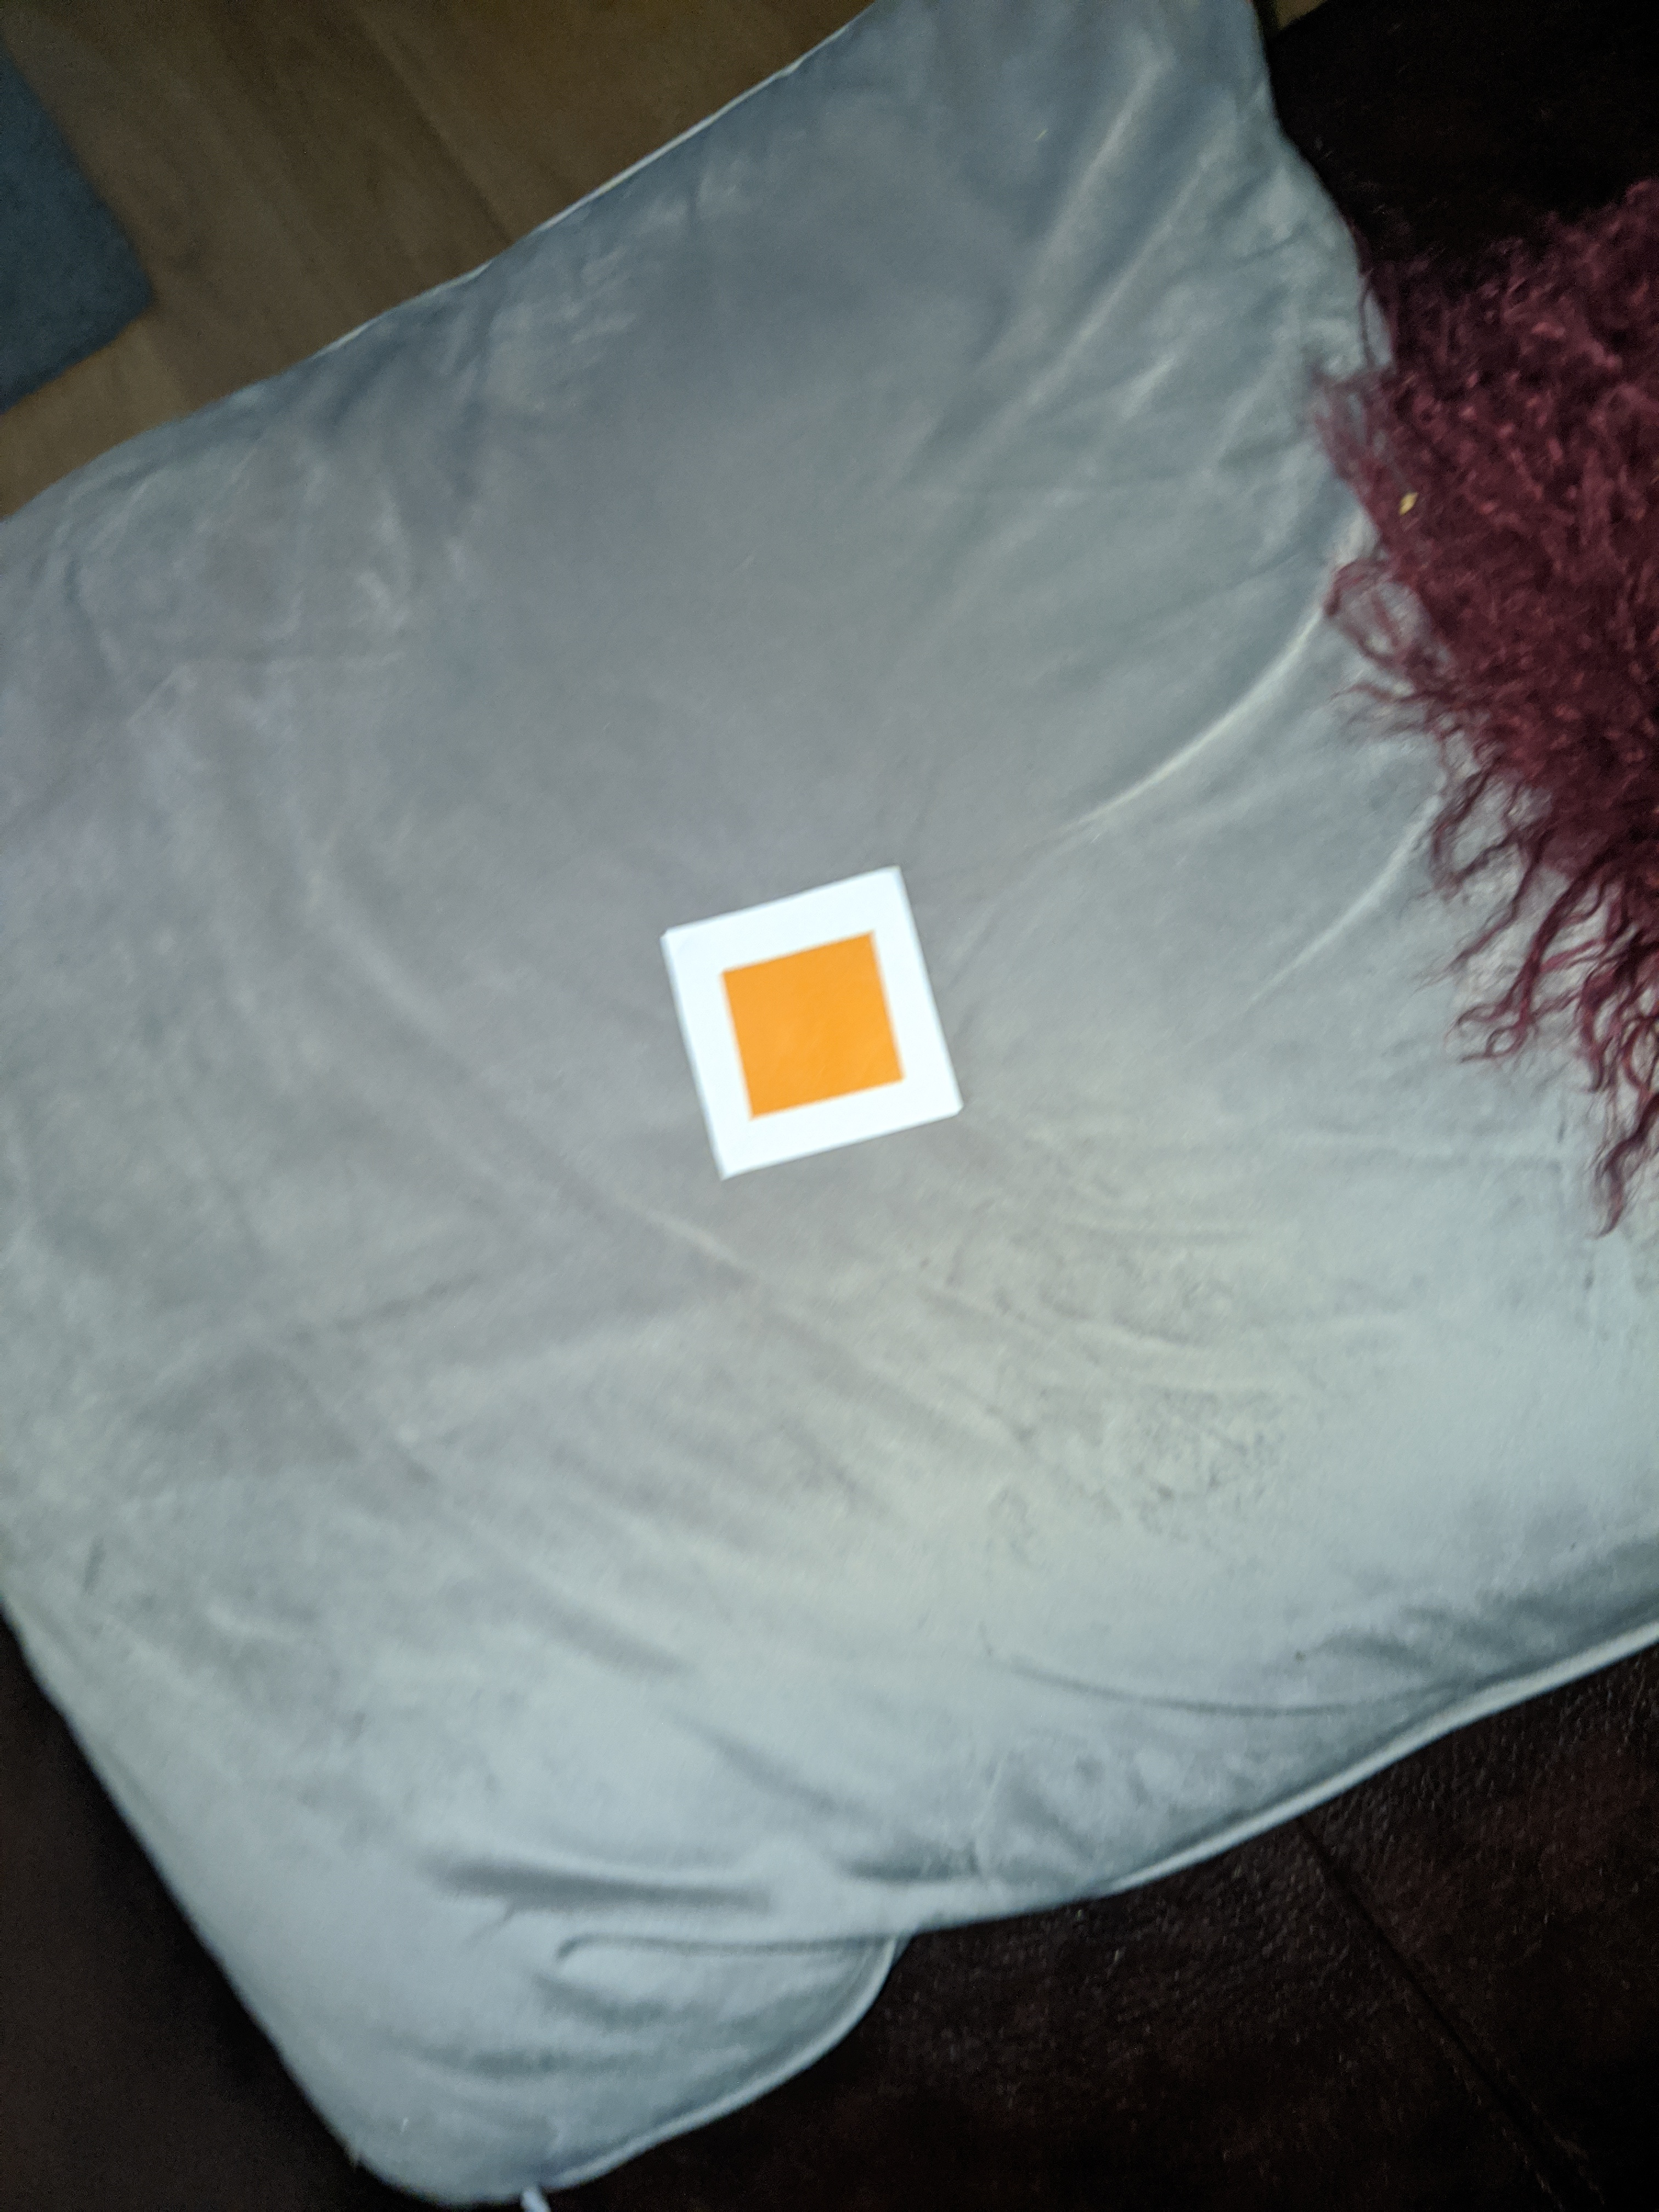orange marker: (643, 845, 972, 1209)
